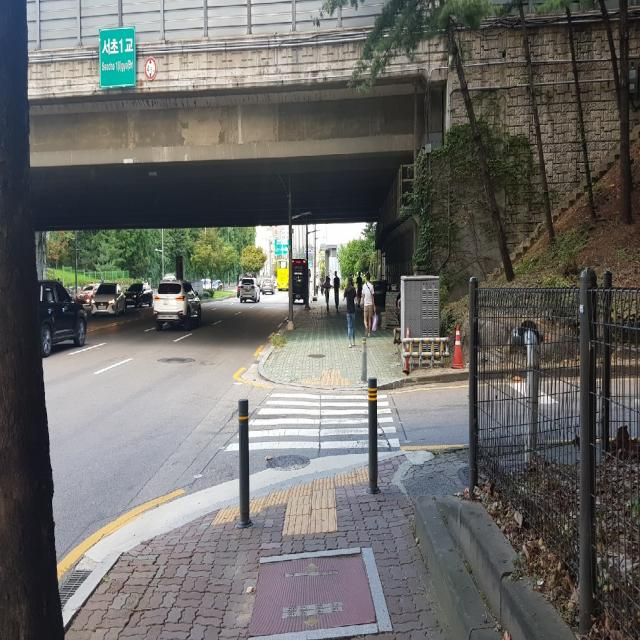횡단보도: (223, 392, 400, 453)
